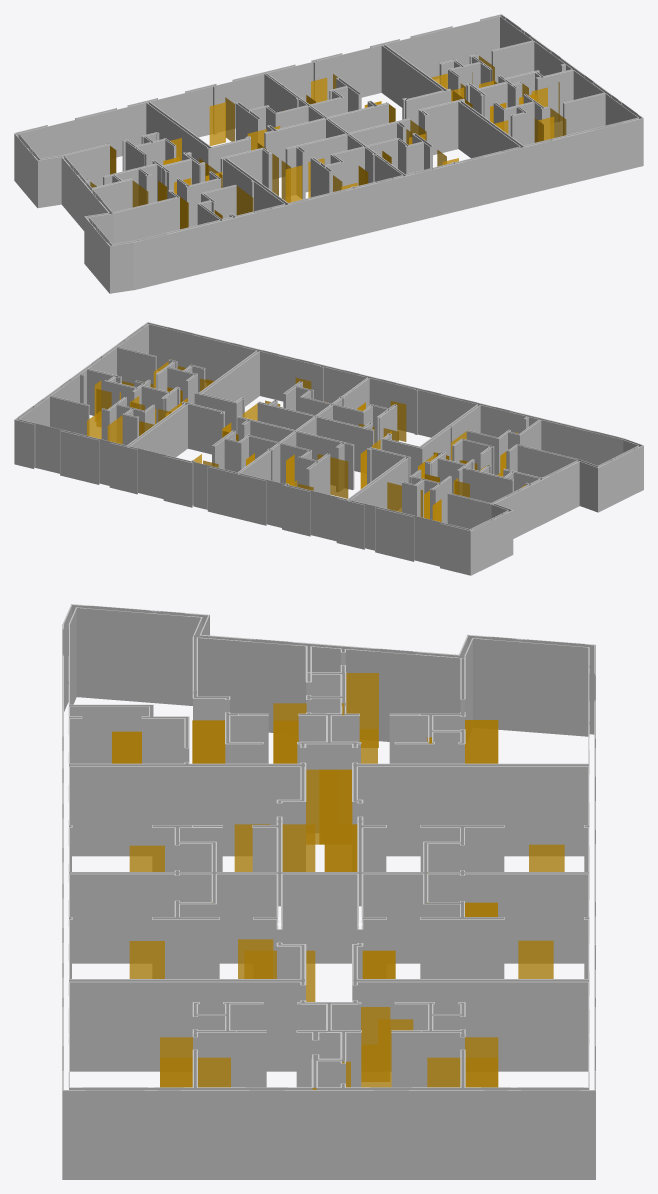
Rendered from f2a220cc-f2b1-4a3e-99c3-8d7b0b8514d2_no_roof.glb.
3 renders of one model, top to bottom at view 1: azimuth 30°, elevation 25°; view 2: azimuth 150°, elevation 25°; view 3: azimuth 270°, elevation 25°, orthographic. The views are drawn at different scales.
Parts seen in each view (by area): view 1: walls, doors; view 2: walls, doors; view 3: walls, doors.
Part boxes in pixels (<box>): walls: <box>14,14,643,293</box>; doors: <box>87,53,566,229</box>; walls: <box>14,322,643,575</box>; doors: <box>87,359,525,521</box>; walls: <box>62,604,595,1179</box>; doors: <box>112,673,564,1089</box>.
Bounding box in the file's own units: 29.2 × 2.5 × 13.54.
